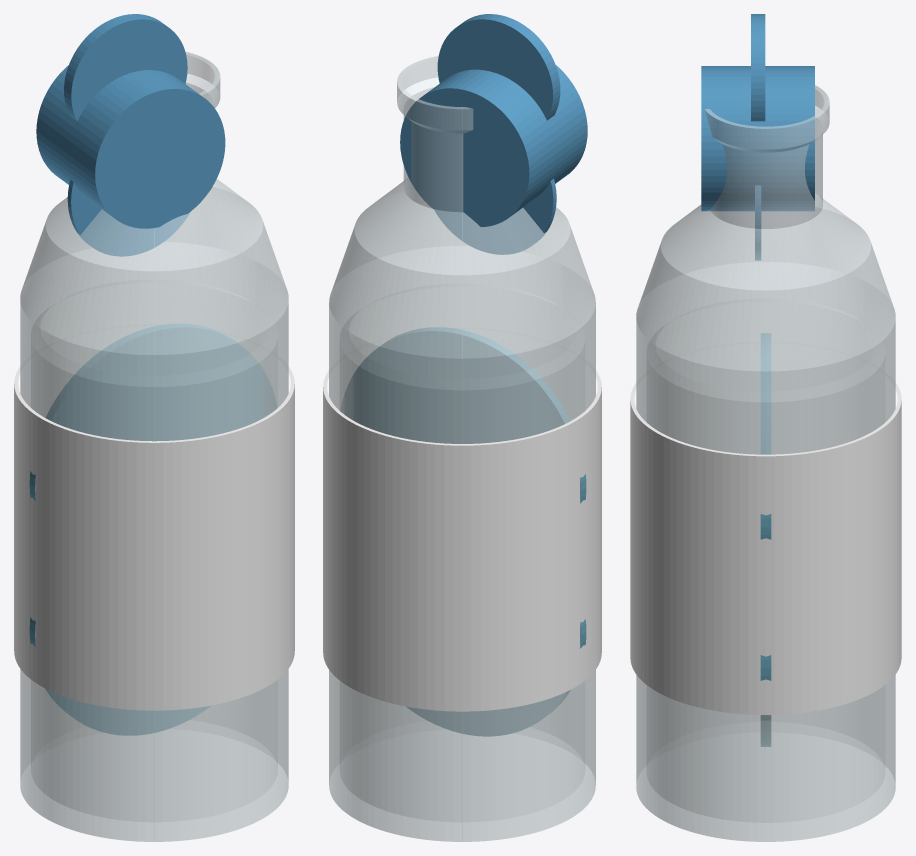
Rendered from botella_tapon.glb.
3 renders of one model, left to right at view 1: azimuth 30°, elevation 25°; view 2: azimuth 150°, elevation 25°; view 3: azimuth 270°, elevation 25°, orthographic. The views are drawn at different scales.
Parts seen in each view (by area): view 1: tapon_3, tapon_0, tapon_1, tapon_2; view 2: tapon_0, tapon_3, tapon_1, tapon_2; view 3: tapon_0, tapon_3, tapon_1, tapon_2.
Boxes of the visible parts, x1,y1,x2,y2 form: tapon_3: (14,324,294,735); tapon_0: (20,52,288,841); tapon_1: (31,279,277,821); tapon_2: (36,14,225,256); tapon_0: (329,56,595,841); tapon_3: (323,327,601,736); tapon_1: (340,283,584,821); tapon_2: (400,14,587,254); tapon_0: (636,85,895,841); tapon_3: (630,333,901,746); tapon_1: (647,298,884,822); tapon_2: (701,14,814,260).
Bounding box in the file's own units: 4.2 × 12.78 × 4.18.
Materials: 4 (1 with a texture image).
